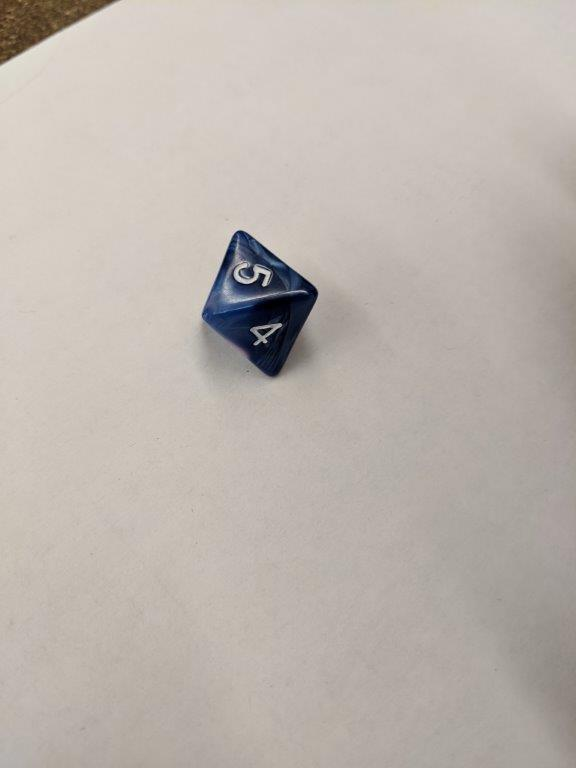d8-5: (195, 232, 318, 379)
